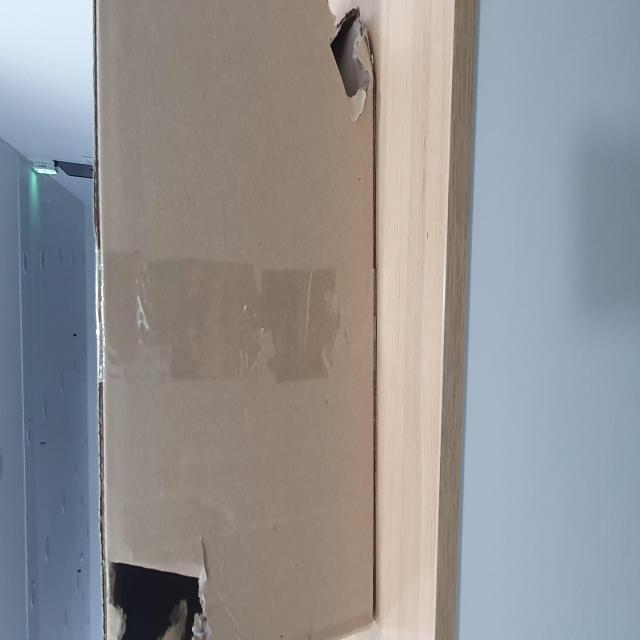damaged: (0, 184, 51, 381), (293, 558, 360, 640)
